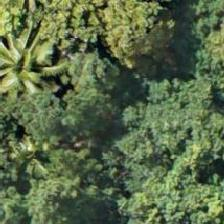coconut_tree: (0, 18, 67, 108)
